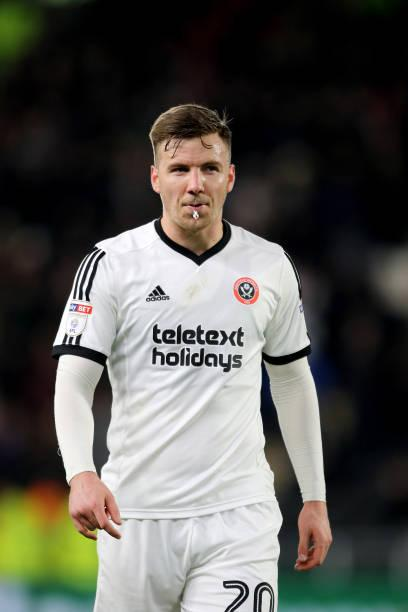Spitting: (110, 83, 274, 265)
